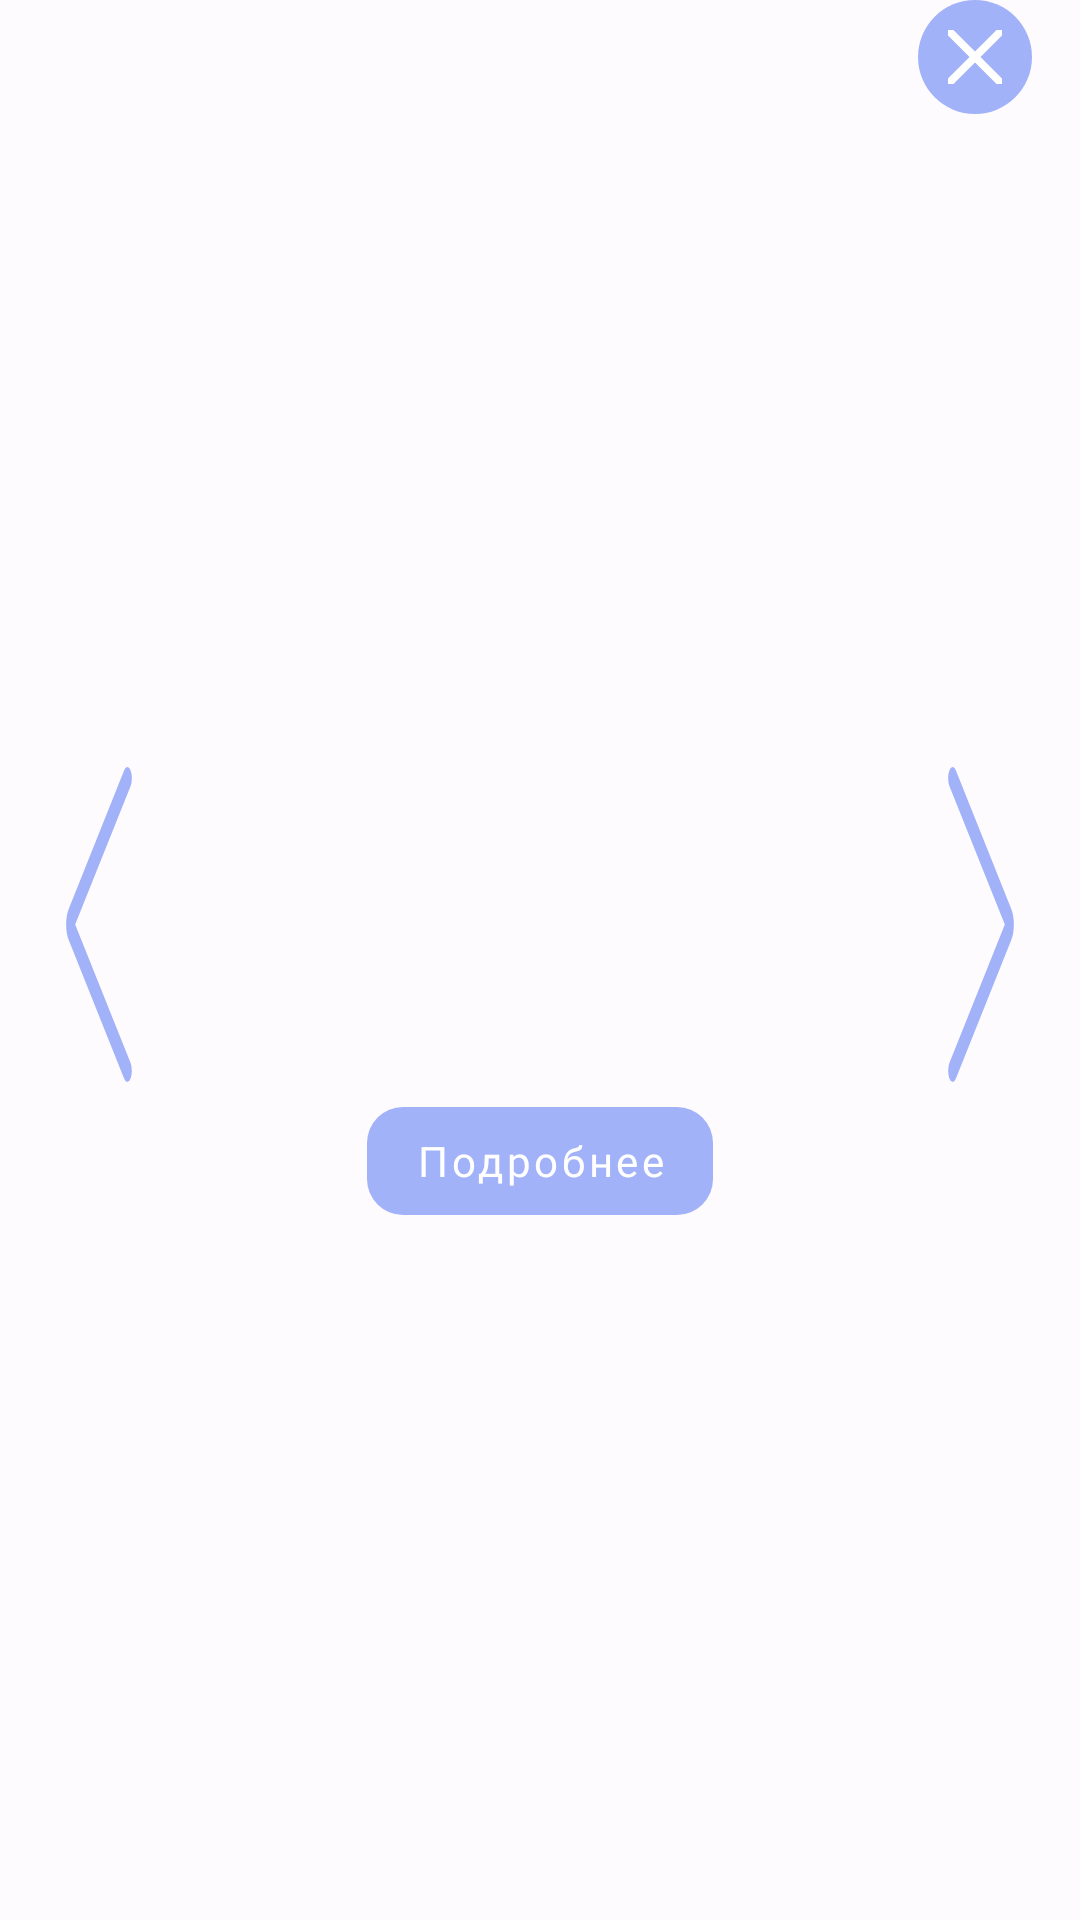

Icons on this 1080×1920 Android screen, each with the point to tap as [x,y]:
close: [975,57]
left: [99,924]
right: [981,924]
